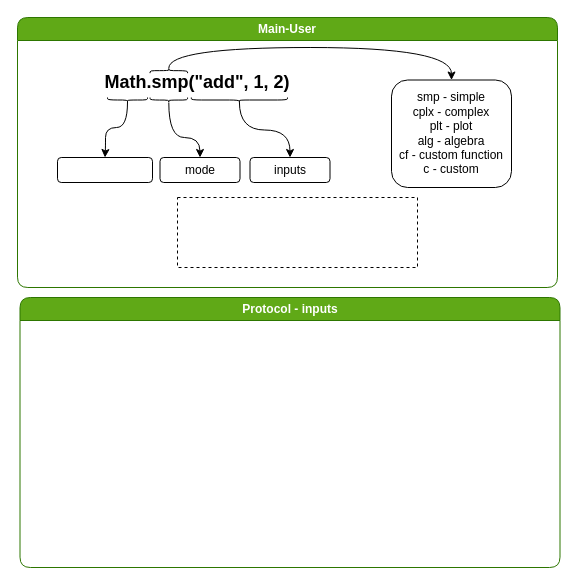
Image size: 578x585. Some labels were removed from this diagram. Each missing label, with the box of its shape:
ex- math.smp("+", 1, 1) =2: (176, 196, 418, 268)
Module-name: (56, 156, 152, 182)
